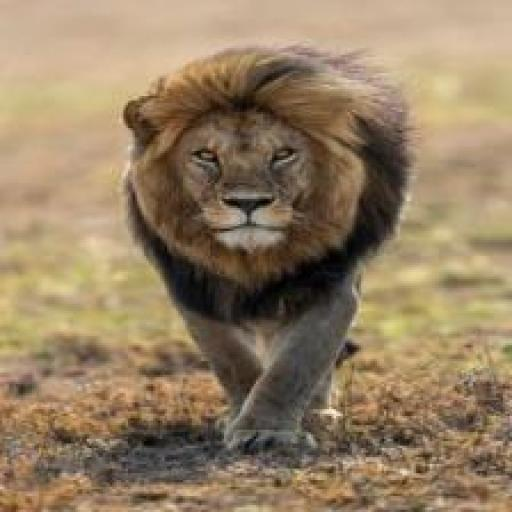lion: (105, 57, 434, 305)
